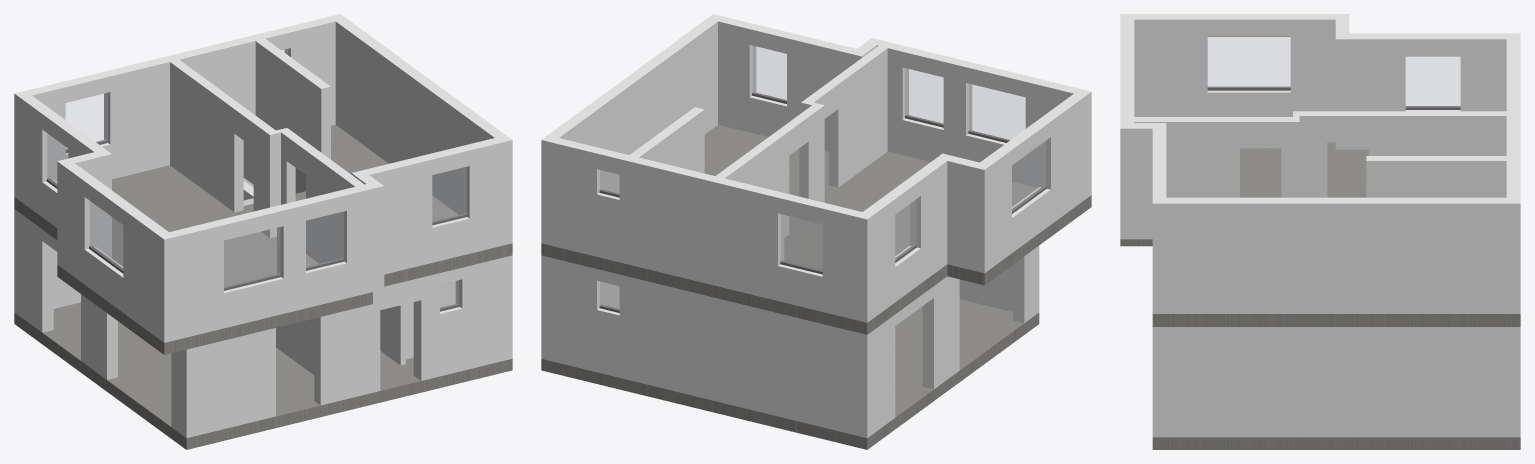
The model's file is house_holodom.glb.
3 views of the same model, side by side, from view 1: azimuth 30°, elevation 25°; view 2: azimuth 150°, elevation 25°; view 3: azimuth 270°, elevation 25° (orthographic). The views are drawn at different scales.
Visible parts, largest first — view 1: omietka, poter, sklo, ram; view 2: omietka, poter, sklo, ram; view 3: omietka, poter, sklo, ram.
Part boxes in pixels (left/top/right/bottom): omietka: left=14, top=14, right=512, bottom=438; poter: left=14, top=125, right=512, bottom=449; sklo: left=47, top=49, right=466, bottom=308; ram: left=46, top=139, right=467, bottom=311; omietka: left=541, top=14, right=1091, bottom=437; poter: left=541, top=125, right=1091, bottom=449; sklo: left=600, top=46, right=1045, bottom=309; ram: left=599, top=92, right=1046, bottom=312; omietka: left=1120, top=14, right=1520, bottom=437; poter: left=1120, top=142, right=1520, bottom=449; sklo: left=1208, top=37, right=1460, bottom=106; ram: left=1207, top=36, right=1460, bottom=109.
Size of the model in its own units: 9.75 by 5.91 by 8.7.
5 materials, 5 textured.
